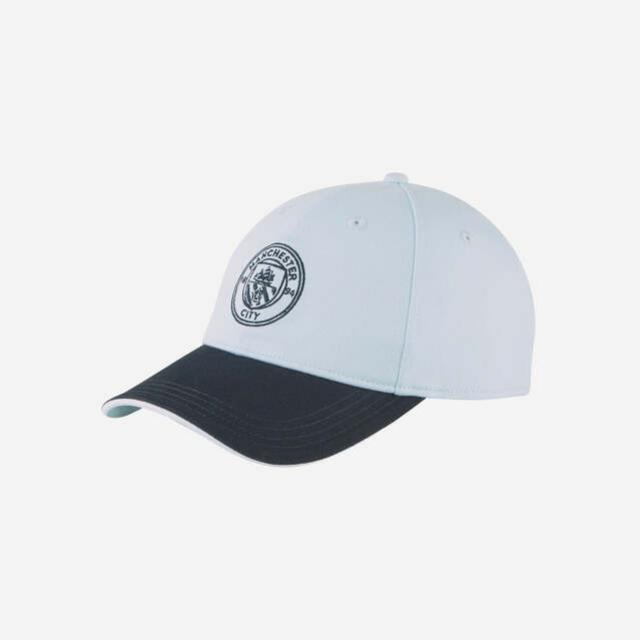Nonhelmet: (98, 168, 539, 469)
